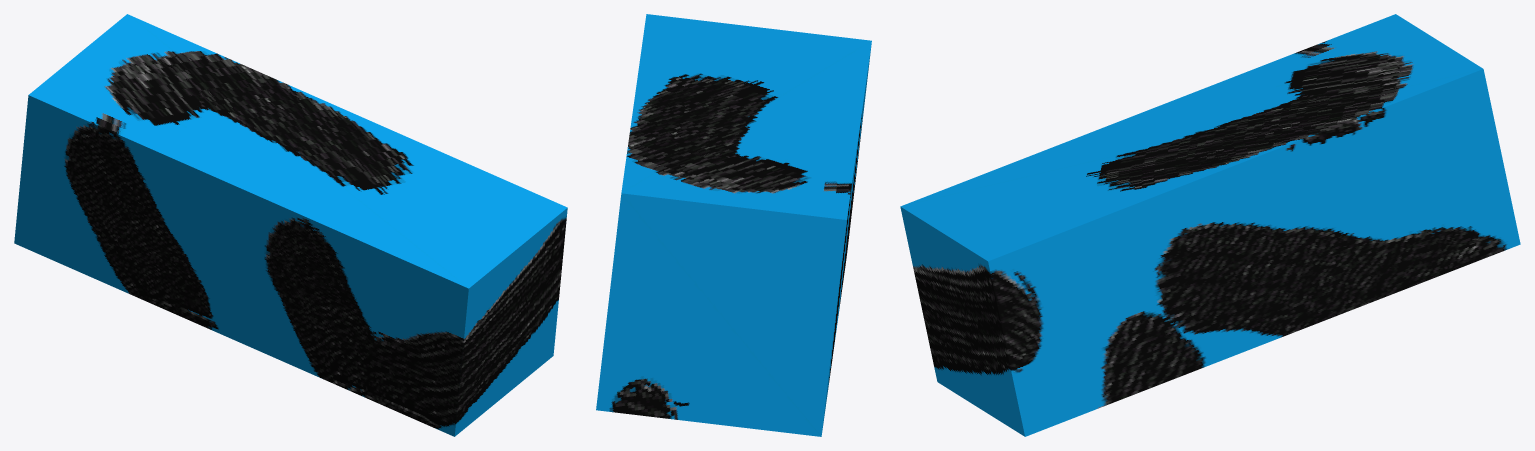
3 views of the same model, side by side, from view 1: azimuth 30°, elevation 25°; view 2: azimuth 150°, elevation 25°; view 3: azimuth 270°, elevation 25° (orthographic). The views are drawn at different scales.
Parts seen in each view (by area): view 1: mesh_id20; view 2: mesh_id20; view 3: mesh_id20.
Part boxes in pixels (left/top/right/bottom): mesh_id20: left=14, top=14, right=567, bottom=436; mesh_id20: left=596, top=14, right=871, bottom=436; mesh_id20: left=900, top=14, right=1520, bottom=436.
Bounding box in the file's own units: 70.68 × 48.84 × 100.
Materials: 1 (1 with a texture image).
